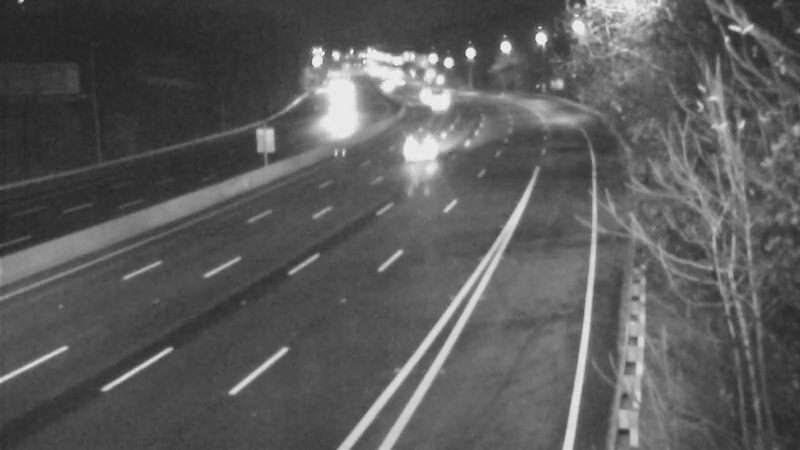vehicle: (364, 61, 414, 111), (412, 76, 462, 126), (393, 121, 443, 171), (316, 81, 366, 131)
